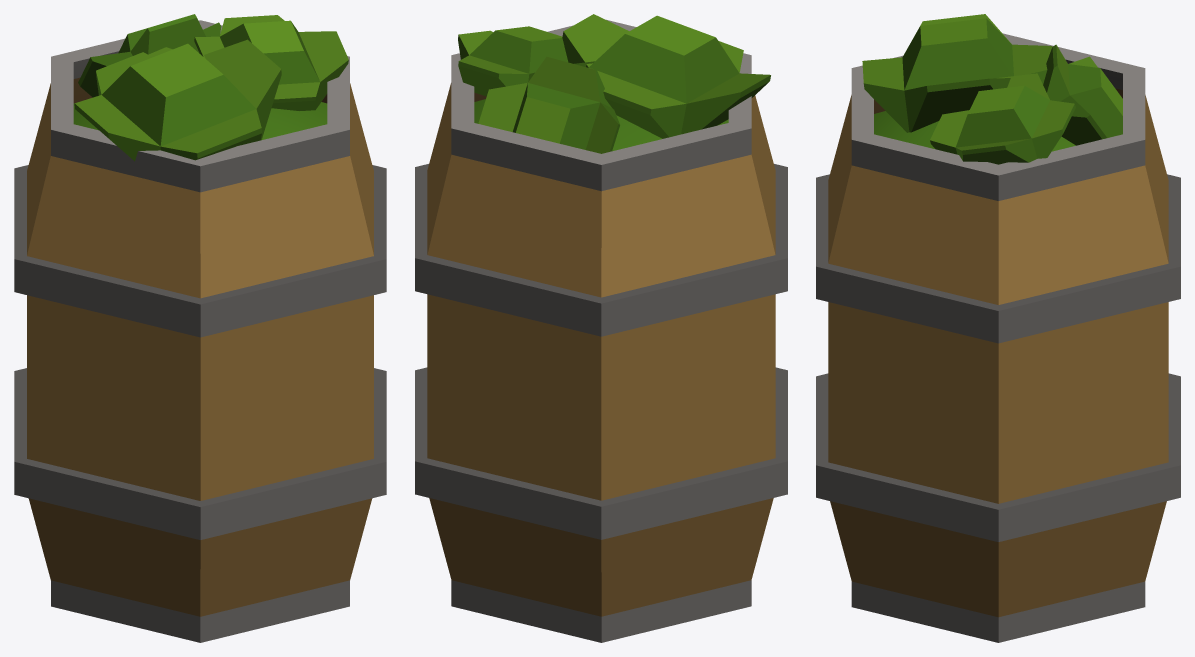
The model's file is Barrel_Cabbages.gltf.
The picture shows the model from 3 angles, left to right: view 1: azimuth 30°, elevation 25°; view 2: azimuth 150°, elevation 25°; view 3: azimuth 270°, elevation 25°; orthographic projection. The views are drawn at different scales.
Parts seen in each view (by area): view 1: SF_Prop_Barrel_Cabbages_01; view 2: SF_Prop_Barrel_Cabbages_01; view 3: SF_Prop_Barrel_Cabbages_01.
Part boxes in pixels (x1,y1,x2,y2): SF_Prop_Barrel_Cabbages_01: (14, 14, 386, 642); SF_Prop_Barrel_Cabbages_01: (415, 14, 787, 642); SF_Prop_Barrel_Cabbages_01: (816, 14, 1180, 642).
Size of the model in its own units: 0.0166 by 0.0228 by 0.0144.
1 material, 1 textured.
